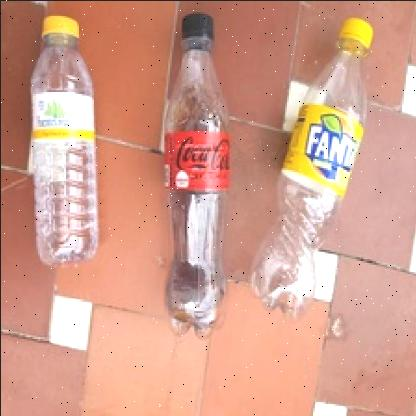Plastic Bottle: (249, 17, 373, 321), (162, 13, 230, 339), (29, 14, 99, 268)
